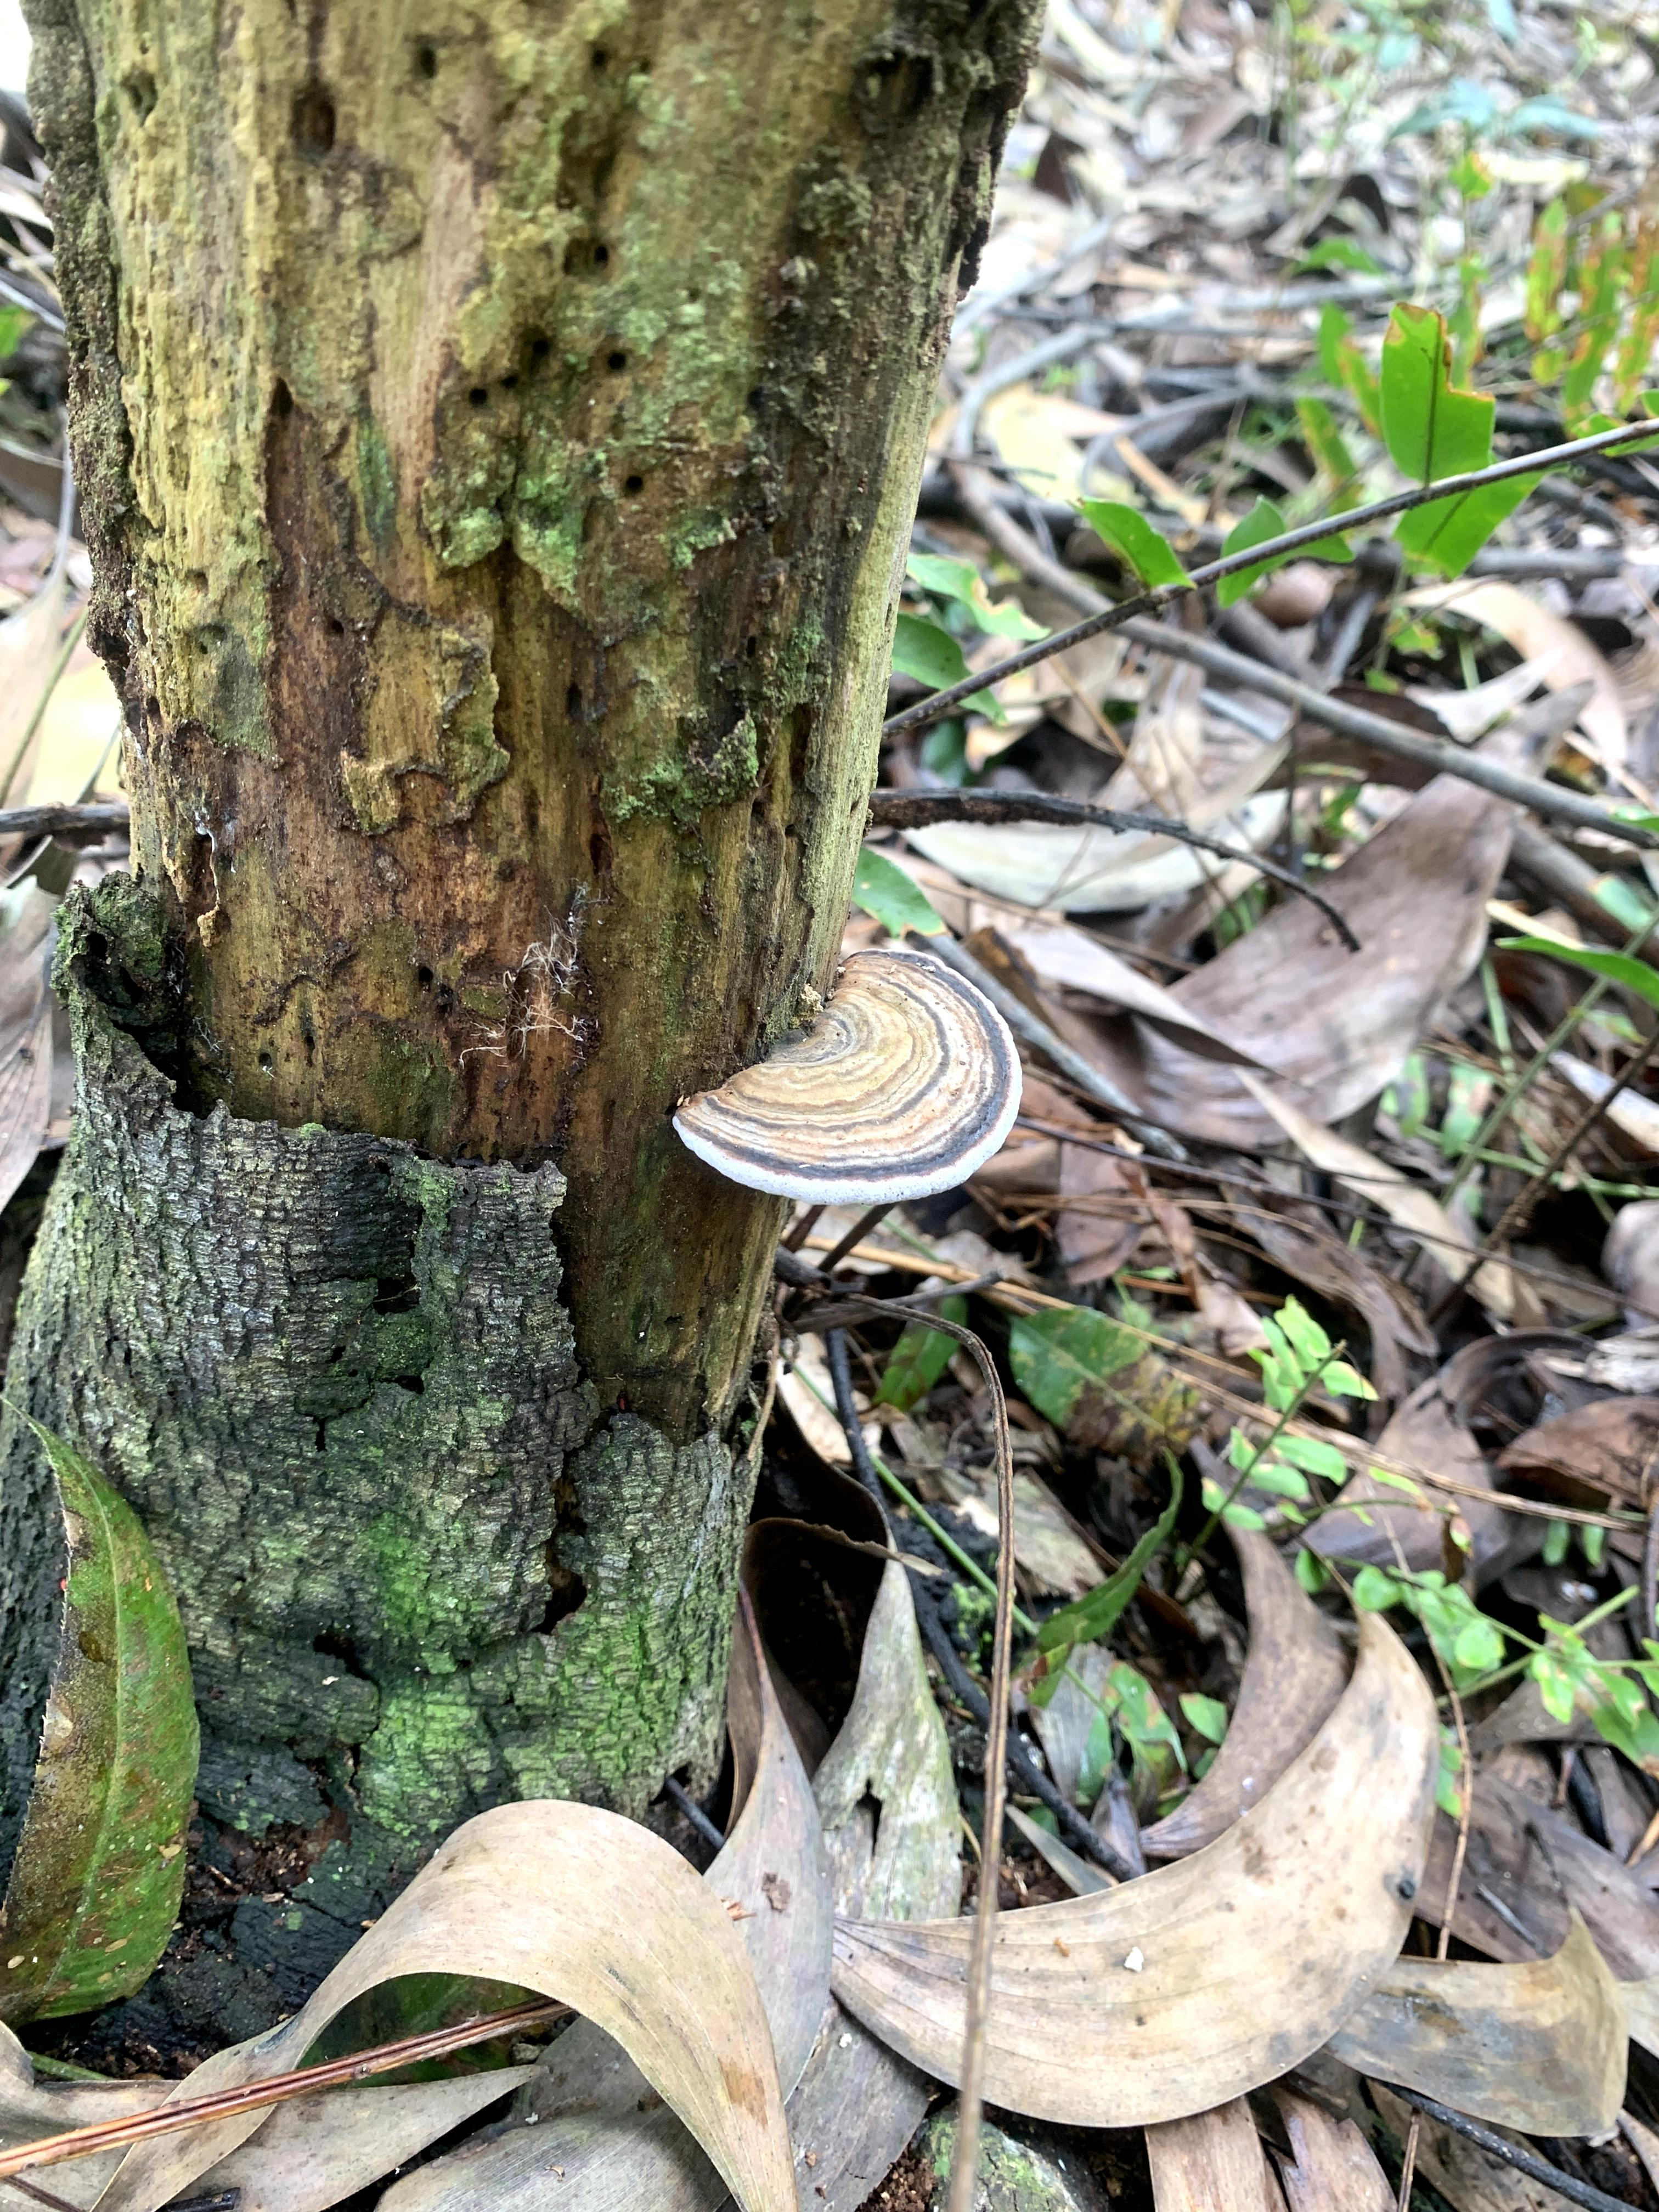Ganoderma - Fruit Body: (660, 880, 1054, 1228)
